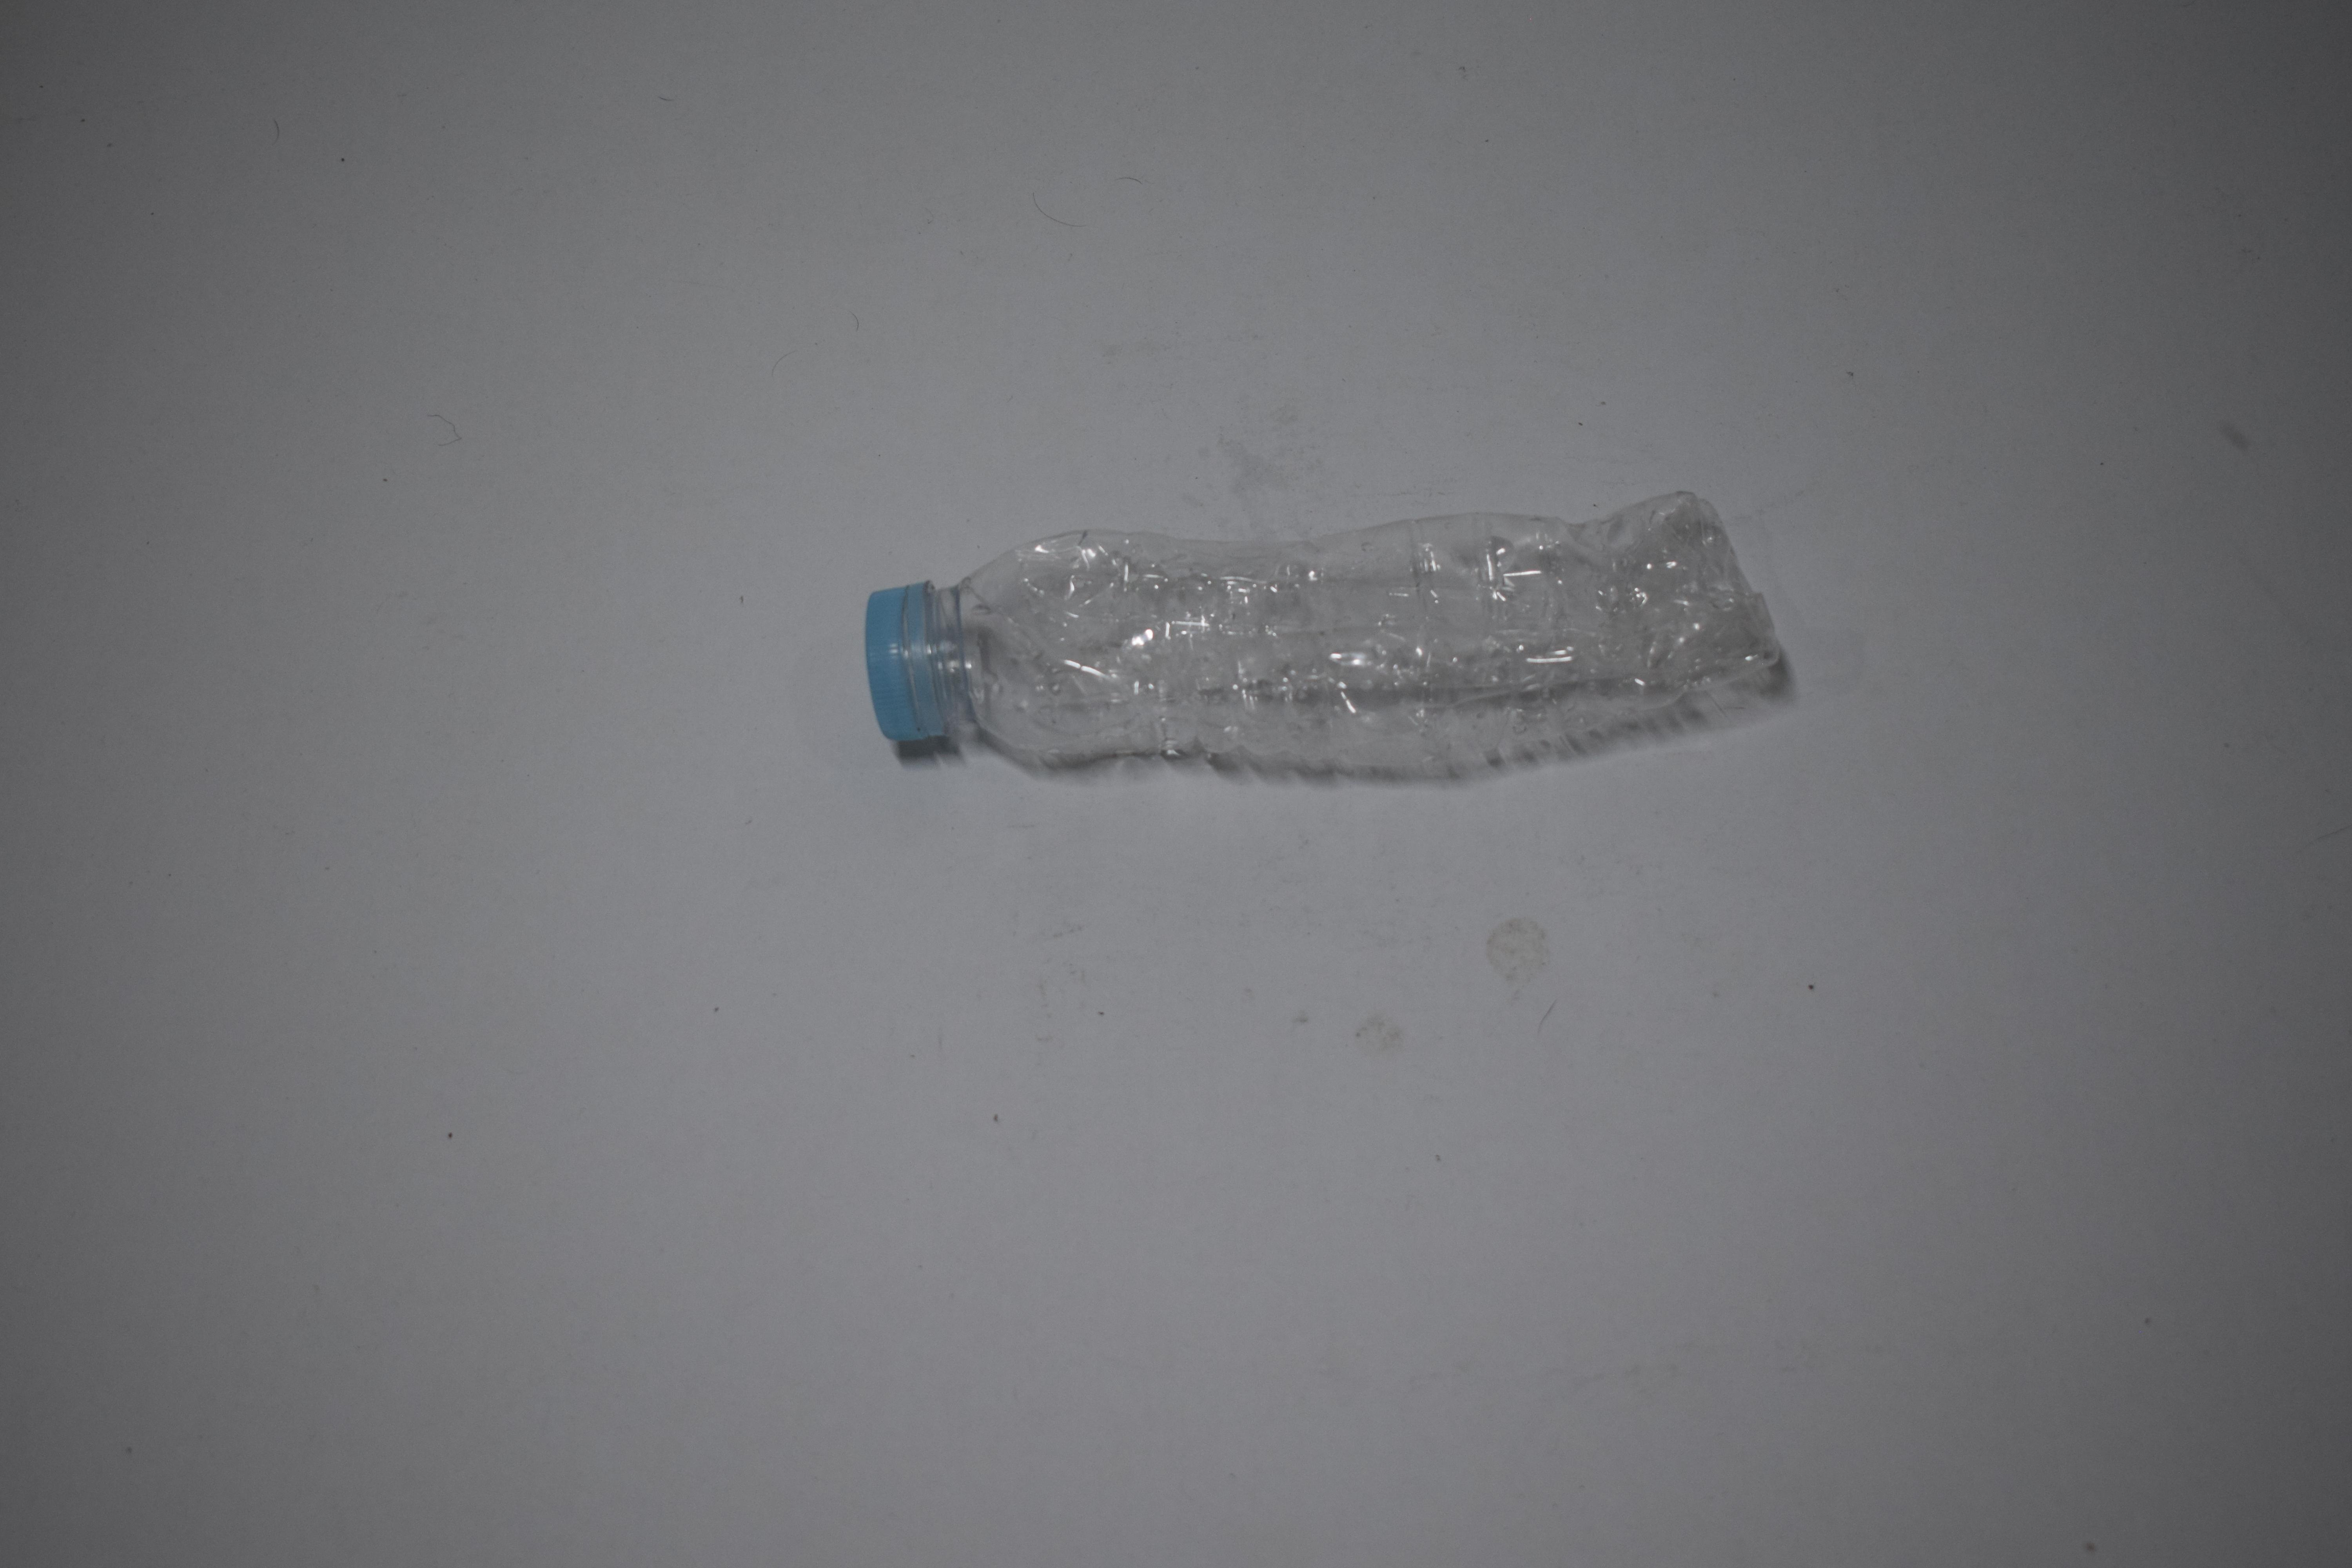bottle: (0, 474, 621, 788)
